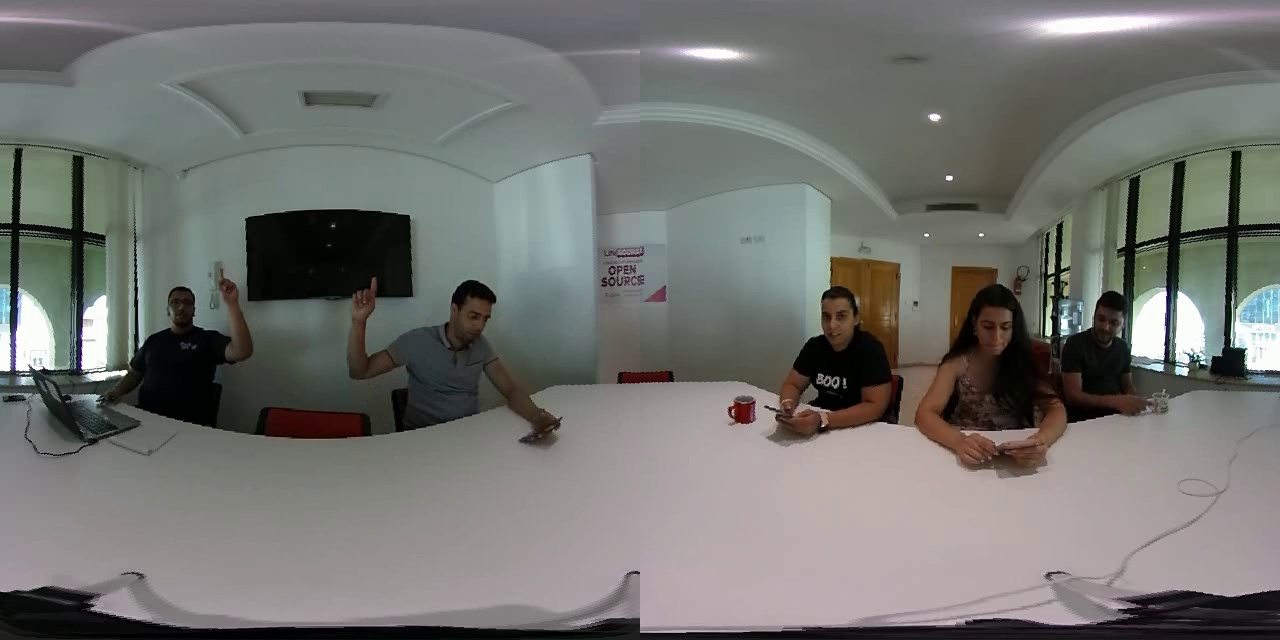person: (339, 260, 526, 443), (930, 270, 1062, 472), (126, 259, 254, 441), (778, 259, 899, 439), (1066, 272, 1162, 428)
speaking: (340, 263, 395, 395), (205, 258, 253, 378)
